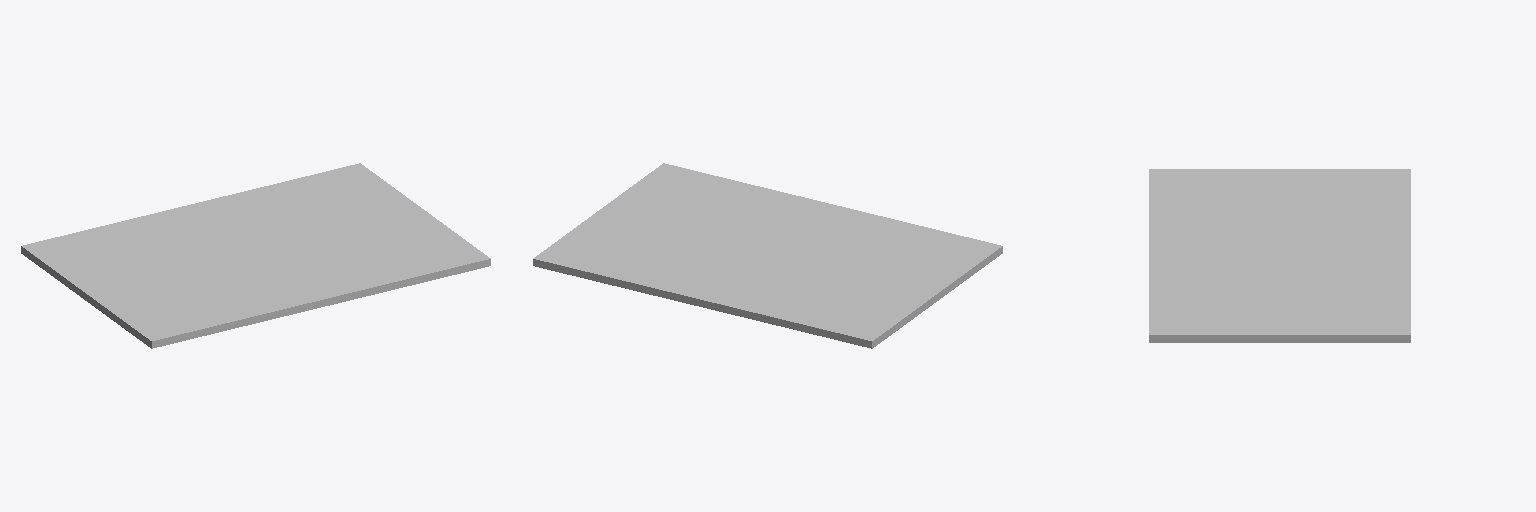
Rendered from Plate4_12x8.obj.
3 renders of one model, left to right at view 1: azimuth 30°, elevation 25°; view 2: azimuth 150°, elevation 25°; view 3: azimuth 270°, elevation 25°, orthographic.
Visible parts, largest first — view 1: Plate4_12x8_Cube.361; view 2: Plate4_12x8_Cube.361; view 3: Plate4_12x8_Cube.361.
Boxes of the visible parts, x1,y1,x2,y2 form: Plate4_12x8_Cube.361: [21, 163, 490, 348]; Plate4_12x8_Cube.361: [533, 163, 1002, 348]; Plate4_12x8_Cube.361: [1149, 169, 1410, 342].
Size of the model in its own units: 12 by 0.25 by 8.